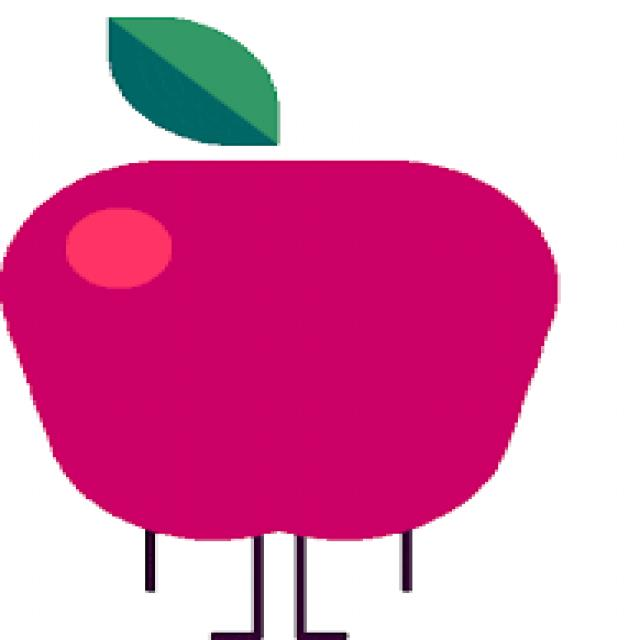Apple: (5, 154, 559, 541)
